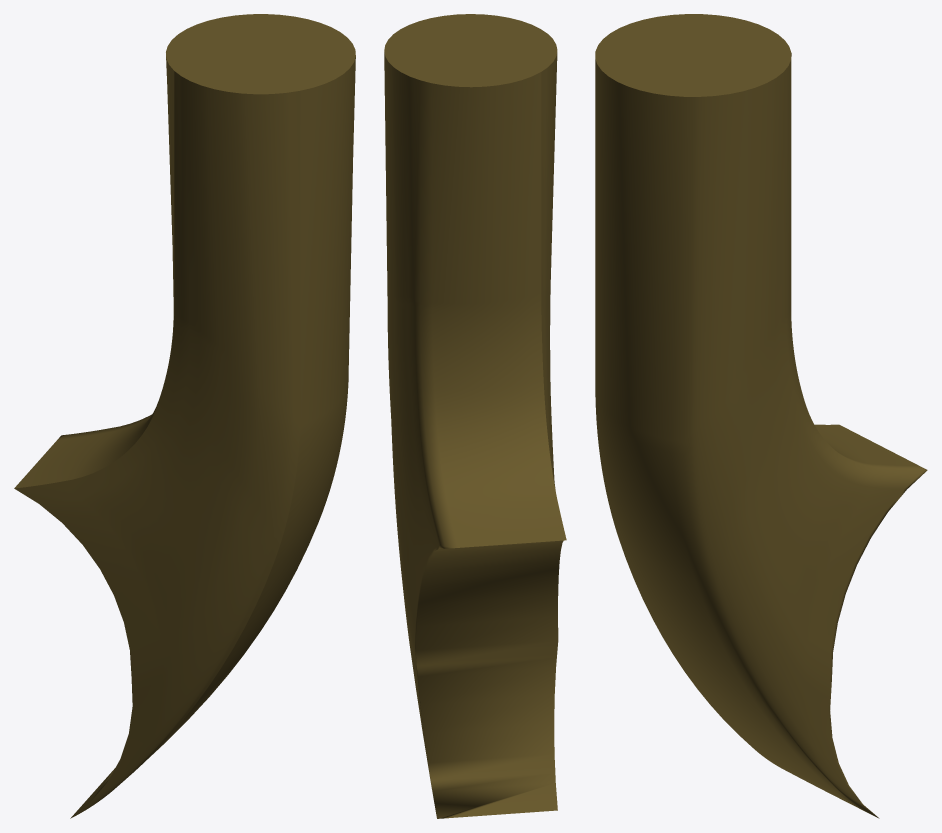
File: original-5.obj
3 renders of one model, left to right at view 1: azimuth 30°, elevation 25°; view 2: azimuth 150°, elevation 25°; view 3: azimuth 270°, elevation 25°, orthographic. The views are drawn at different scales.
Parts seen in each view (by area): view 1: Group1/mesh3/mesh3-geometry#mesh3-geometry; view 2: Group1/mesh3/mesh3-geometry#mesh3-geometry; view 3: Group1/mesh3/mesh3-geometry#mesh3-geometry.
Boxes of the visible parts, <box> form: Group1/mesh3/mesh3-geometry#mesh3-geometry: <box>14,14,355,818</box>; Group1/mesh3/mesh3-geometry#mesh3-geometry: <box>384,14,566,818</box>; Group1/mesh3/mesh3-geometry#mesh3-geometry: <box>595,14,927,818</box>.
Bounding box in the file's own units: 0.0875 × 0.2466 × 0.094.
